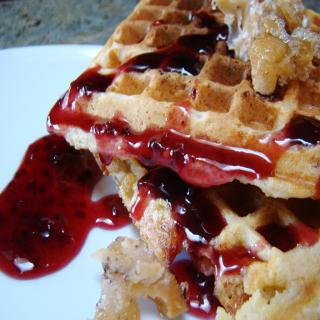Waffle: (46, 0, 320, 198), (92, 153, 320, 320)
